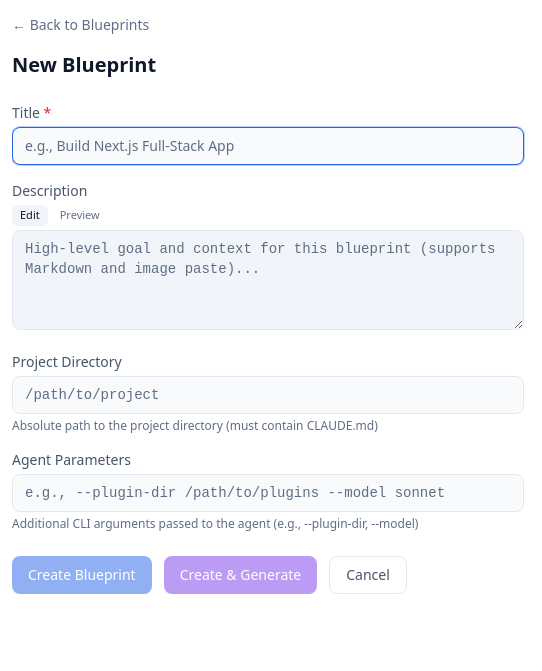
Test: NewBlueprintPage › shows error when createBlueprint fails
In the field labelled "Title *": {"x": 268, "y": 146} [12, 127, 524, 165], type "Failing BP"
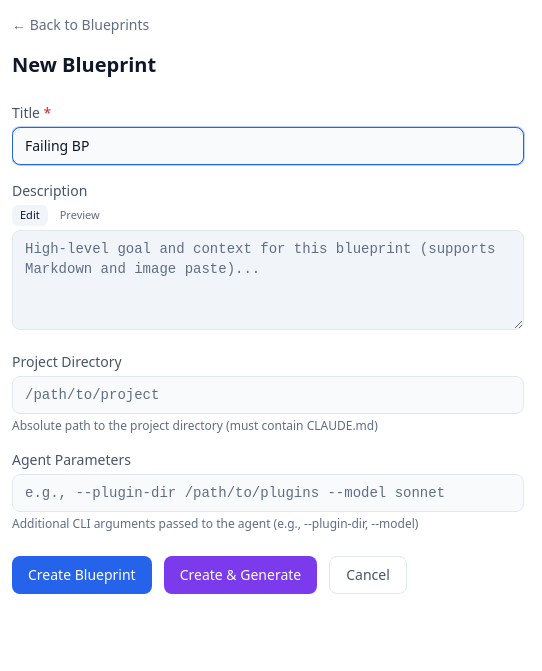
Click the button "Create Blueprint": {"x": 82, "y": 574} [12, 556, 152, 594]
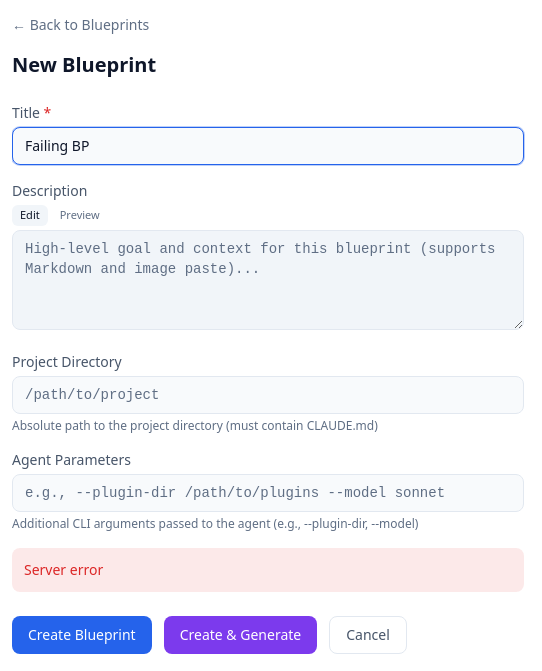
Now the text "Server error" is shown, box [12, 548, 524, 592]
